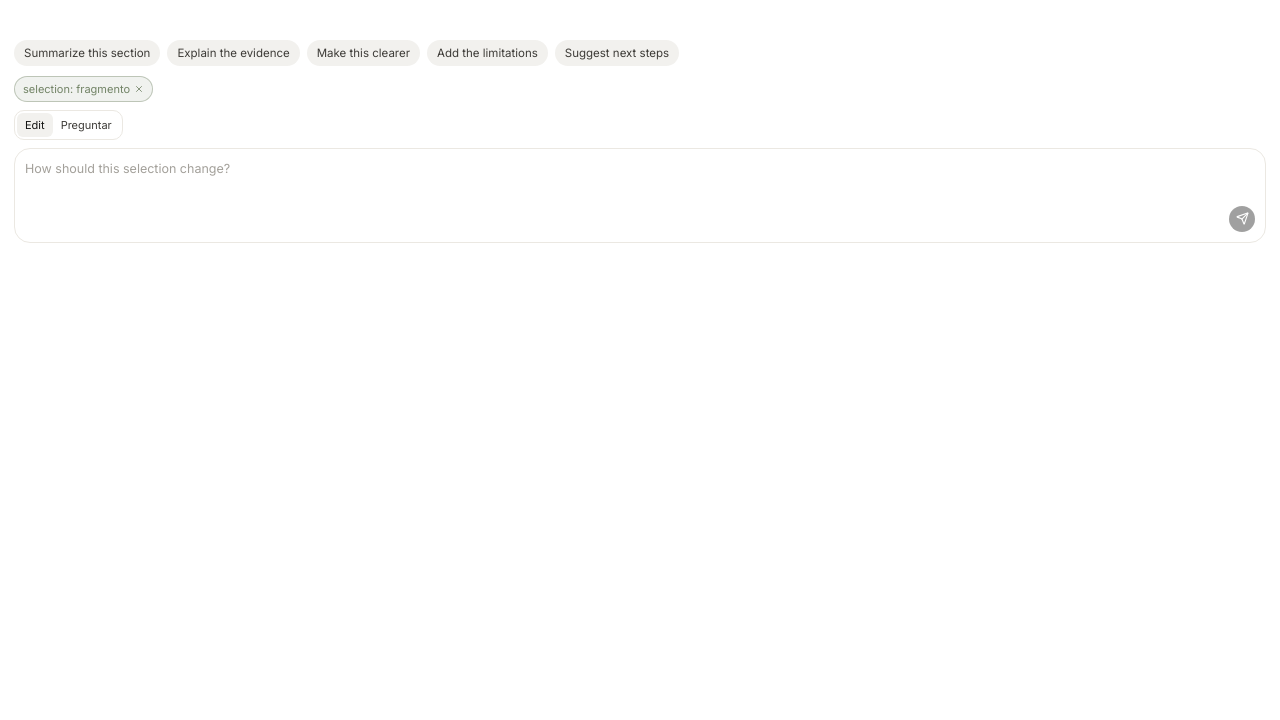
it: ReportChat › un conflicto de versión conserva el borrador y explica qué hacer
In the text box named "Instruction for the editor": (640, 179) [25, 159, 1255, 200], type "Ajusta el resumen"
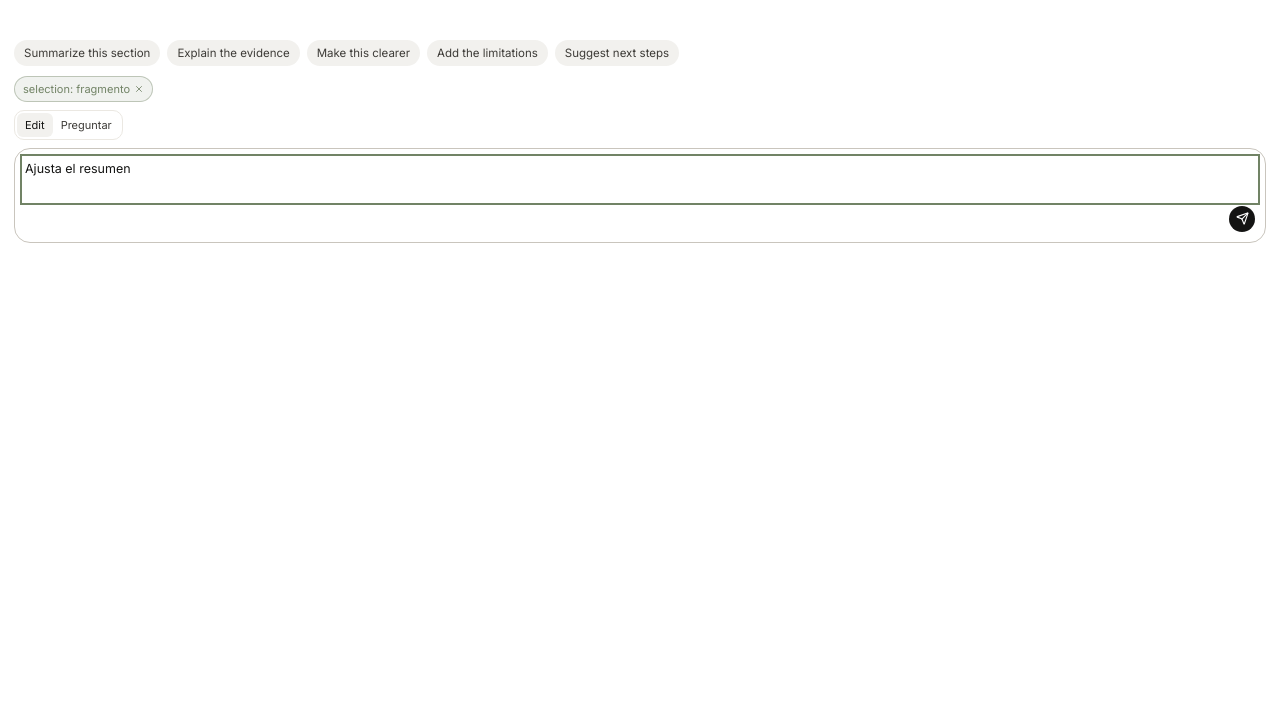
Click the button named "Send": (1242, 219) [1229, 206, 1255, 232]
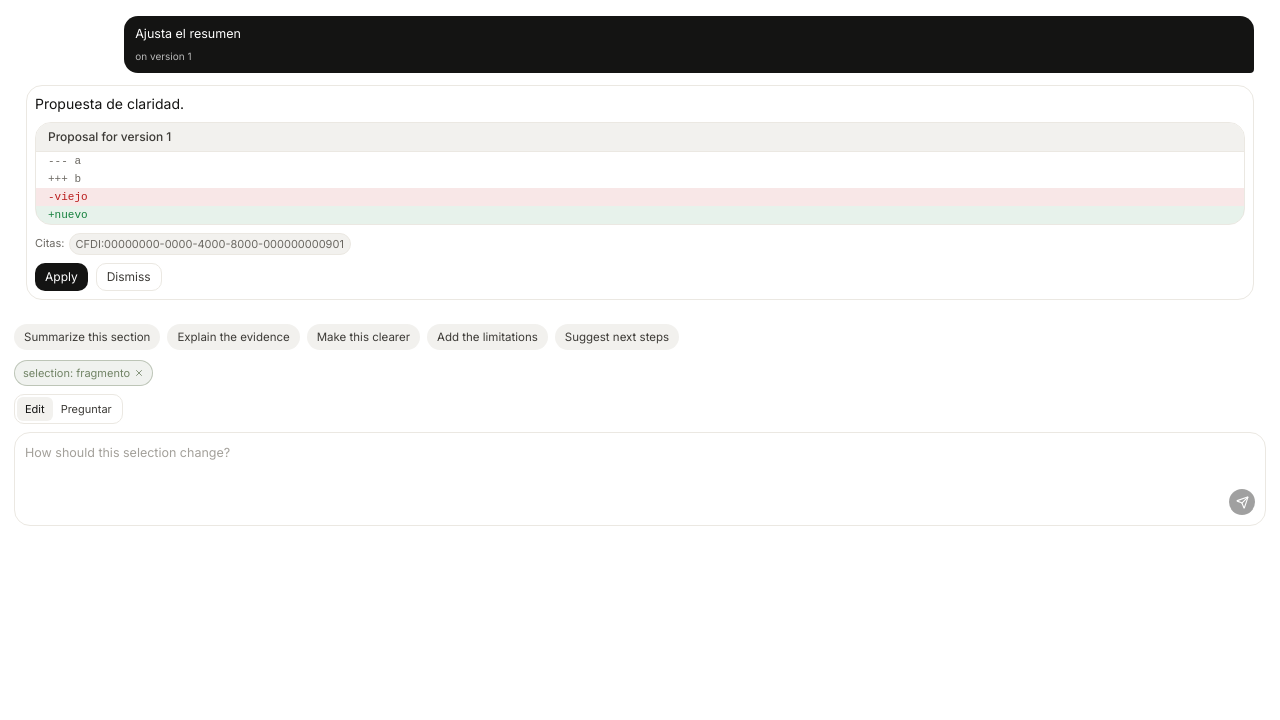
Click the button "Apply": (61, 277) [35, 263, 88, 291]
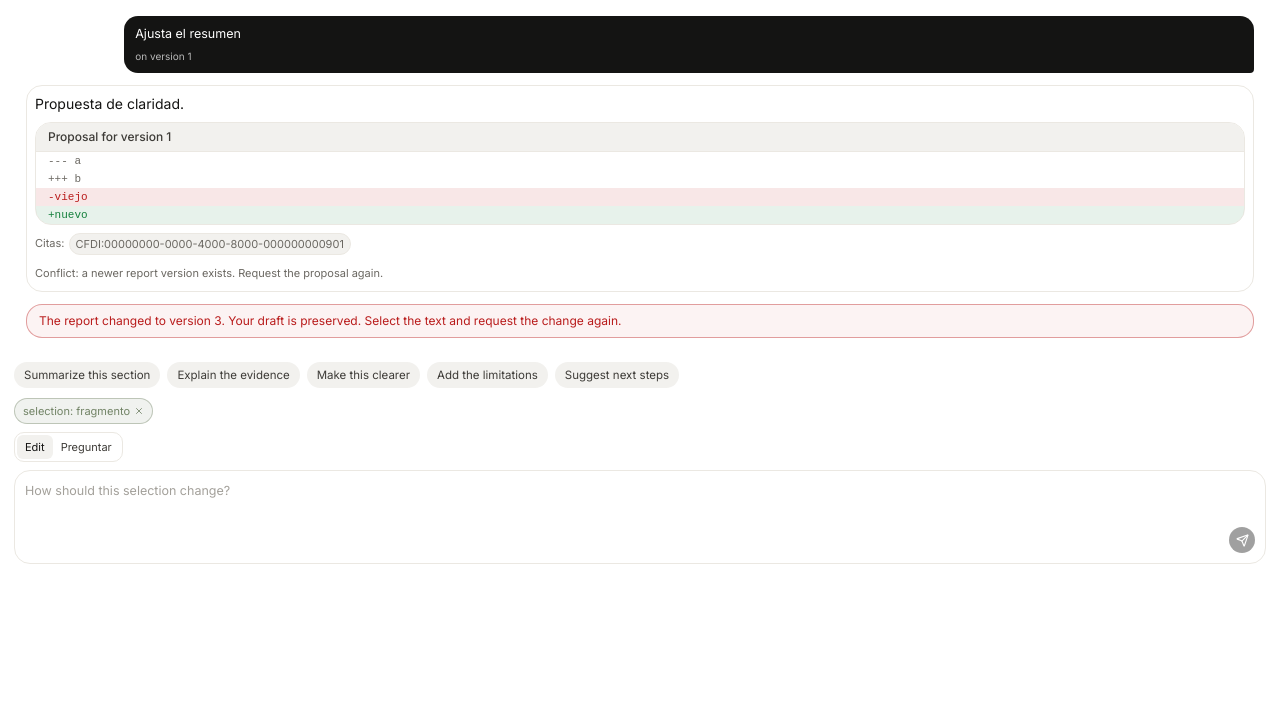
Expected: the text "changed to version 3" is shown, [39, 313, 622, 328]
Expected: the text "Conflict:" is shown, [35, 266, 383, 280]
